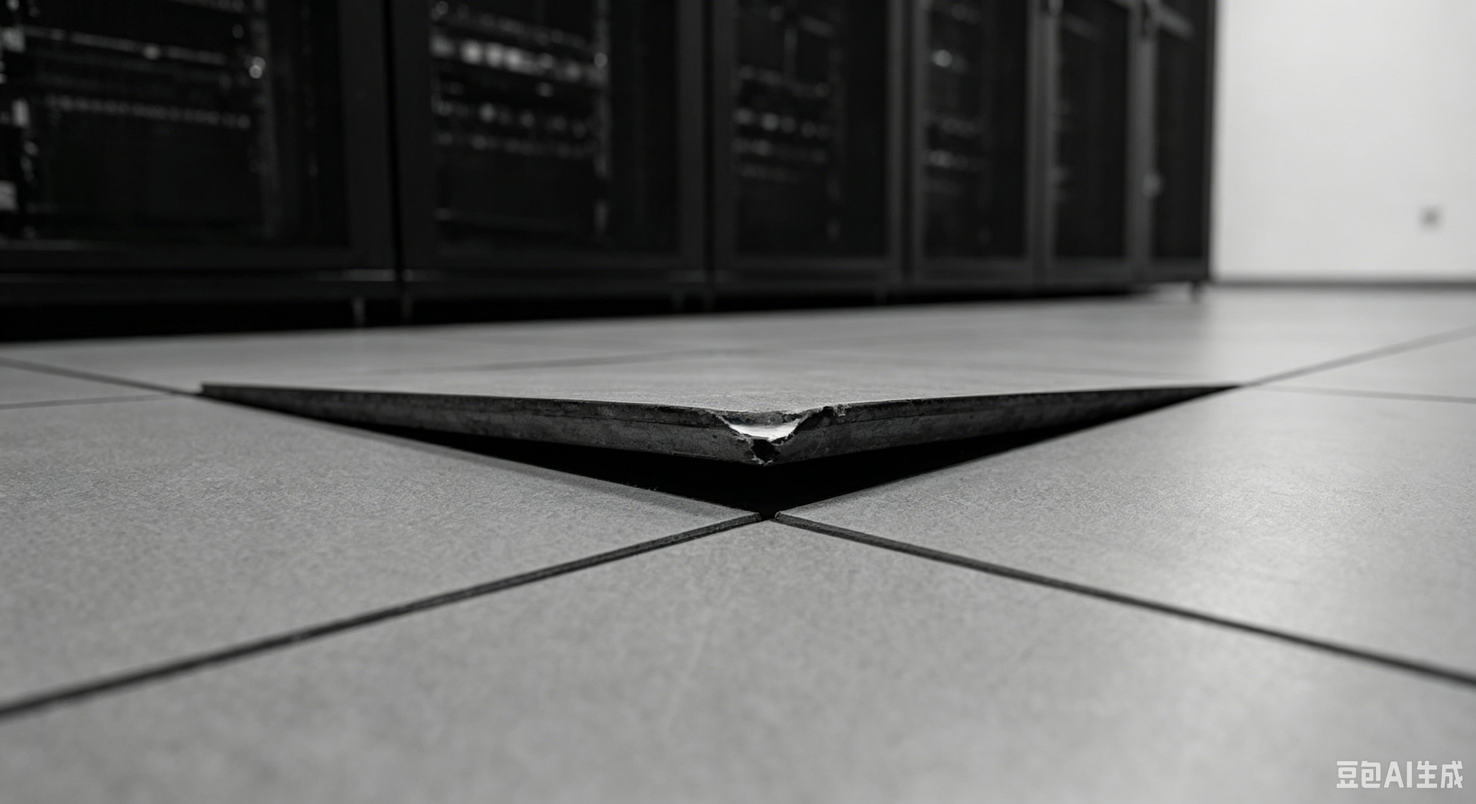floor_defect: (214, 368, 1236, 527)
